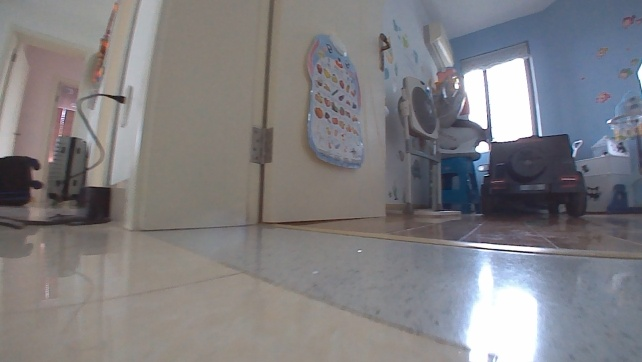door_anno: (120, 0, 394, 231)
metal_chair_foot: (386, 205, 461, 220)
wire: (68, 89, 113, 175)
